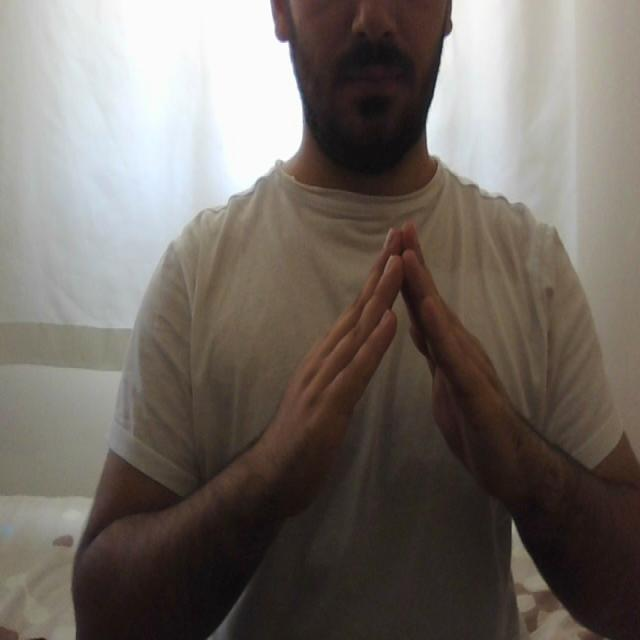Ev: (242, 216, 544, 520)
